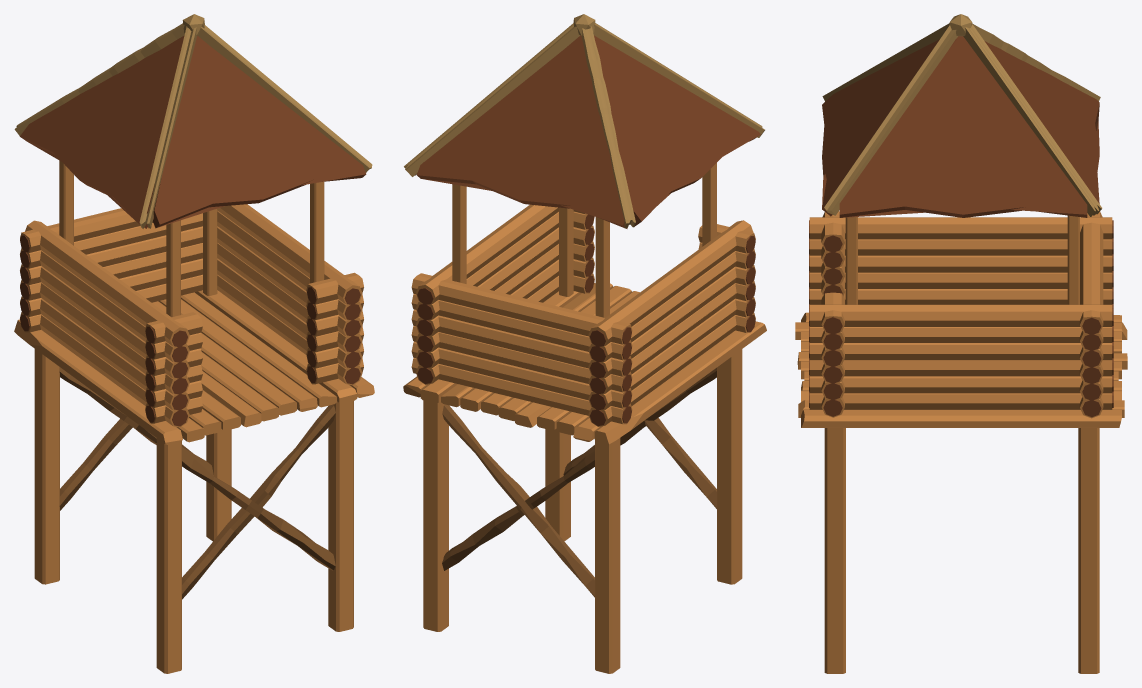
Rendered from Tower_1_White.fbx.
3 views of the same model, side by side, from view 1: azimuth 30°, elevation 25°; view 2: azimuth 150°, elevation 25°; view 3: azimuth 270°, elevation 25° (orthographic). The views are drawn at different scales.
Parts seen in each view (by area): view 1: Cube.390, Cube.388, Cylinder.112, Cylinder.111, Cylinder.113, Cube.368, Cube.371, Cube.369, Cube.382, Cylinder.109, Cylinder.115, Cylinder.114 (+23 smaller); view 2: Cube.387, Cylinder.113, Cube.388, Cylinder.112, Cylinder.111, Cube.371, Cube.368, Cube.370, Cube.382, Cylinder.108, Cube.391, Cube.393 (+21 smaller); view 3: Cylinder.111, Cube.389, Cylinder.112, Cube.390, Cube.387, Cube.372, Cube.369, Cube.370, Cylinder.113, Cube.391, Cube.392, Cylinder.119 (+9 smaller).
Boxes of the visible parts, left/top/right/bottom form: Cube.390: left=153, top=36, right=366, bottom=228; Cube.388: left=20, top=35, right=184, bottom=228; Cylinder.112: left=25, top=220, right=189, bottom=427; Cylinder.111: left=217, top=204, right=362, bottom=385; Cylinder.113: left=20, top=208, right=202, bottom=332; Cube.368: left=156, top=438, right=181, bottom=673; Cube.371: left=34, top=349, right=59, bottom=584; Cube.369: left=328, top=401, right=353, bottom=631; Cube.382: left=14, top=319, right=182, bottom=444; Cylinder.109: left=182, top=404, right=335, bottom=599; Cylinder.115: left=306, top=272, right=363, bottom=384; Cylinder.114: left=145, top=312, right=202, bottom=423; Cube.387: left=417, top=35, right=627, bottom=228; Cylinder.113: left=411, top=273, right=632, bottom=424; Cube.388: left=594, top=35, right=760, bottom=226; Cylinder.112: left=588, top=220, right=753, bottom=426; Cylinder.111: left=415, top=204, right=558, bottom=384; Cube.371: left=595, top=438, right=620, bottom=673; Cube.368: left=717, top=349, right=742, bottom=584; Cube.370: left=423, top=400, right=448, bottom=631; Cube.382: left=594, top=321, right=766, bottom=444; Cylinder.108: left=442, top=404, right=594, bottom=597; Cube.391: left=404, top=23, right=580, bottom=176; Cube.393: left=581, top=26, right=635, bottom=228; Cylinder.111: left=809, top=304, right=1112, bottom=409; Cube.389: left=839, top=36, right=1087, bottom=217; Cylinder.112: left=809, top=217, right=1112, bottom=304; Cube.390: left=822, top=38, right=956, bottom=216; Cube.387: left=984, top=41, right=1099, bottom=203; Cube.372: left=801, top=410, right=1121, bottom=427; Cube.369: left=824, top=428, right=845, bottom=673; Cube.370: left=1078, top=428, right=1099, bottom=673; Cylinder.113: left=1079, top=212, right=1103, bottom=418; Cube.391: left=963, top=24, right=1102, bottom=216; Cube.392: left=824, top=25, right=957, bottom=215; Cylinder.119: left=823, top=317, right=842, bottom=416.
Bounding box in the file's own units: 735 × 1771 × 871.
